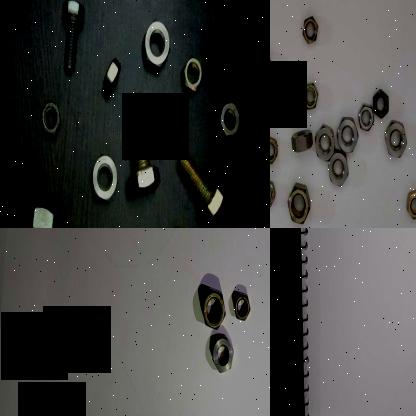Bolts: (121, 82, 161, 202), (177, 143, 231, 228), (61, 0, 87, 81), (21, 194, 65, 228)
NUTS: (142, 16, 174, 70), (91, 150, 121, 204), (334, 110, 362, 156), (287, 178, 312, 228), (98, 57, 122, 109), (200, 286, 228, 330), (383, 120, 409, 162), (313, 119, 337, 164), (38, 96, 62, 140), (210, 333, 235, 375), (181, 56, 205, 96), (326, 150, 350, 190), (218, 102, 242, 140), (288, 126, 316, 156), (231, 287, 253, 323), (370, 86, 392, 121), (356, 104, 378, 134), (300, 13, 320, 46), (300, 80, 318, 112), (405, 187, 416, 221), (270, 177, 277, 211), (270, 136, 278, 164)
